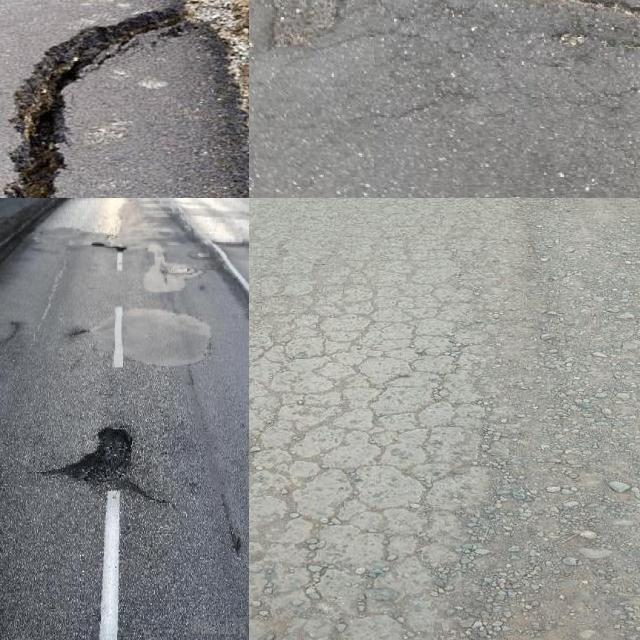Lubang: (62, 427, 144, 495)
Melintang: (355, 0, 640, 47)
Pinggir: (0, 0, 249, 198)
Retak Buaya: (249, 289, 490, 640)
